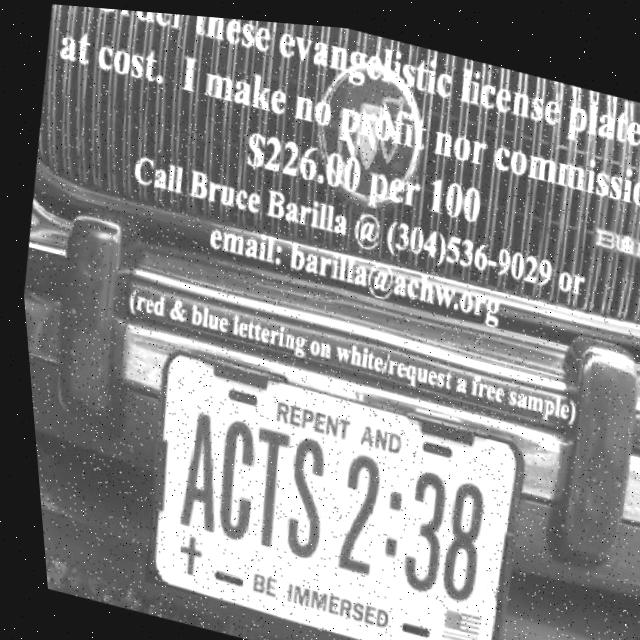LicensePlate: (119, 341, 526, 640)
